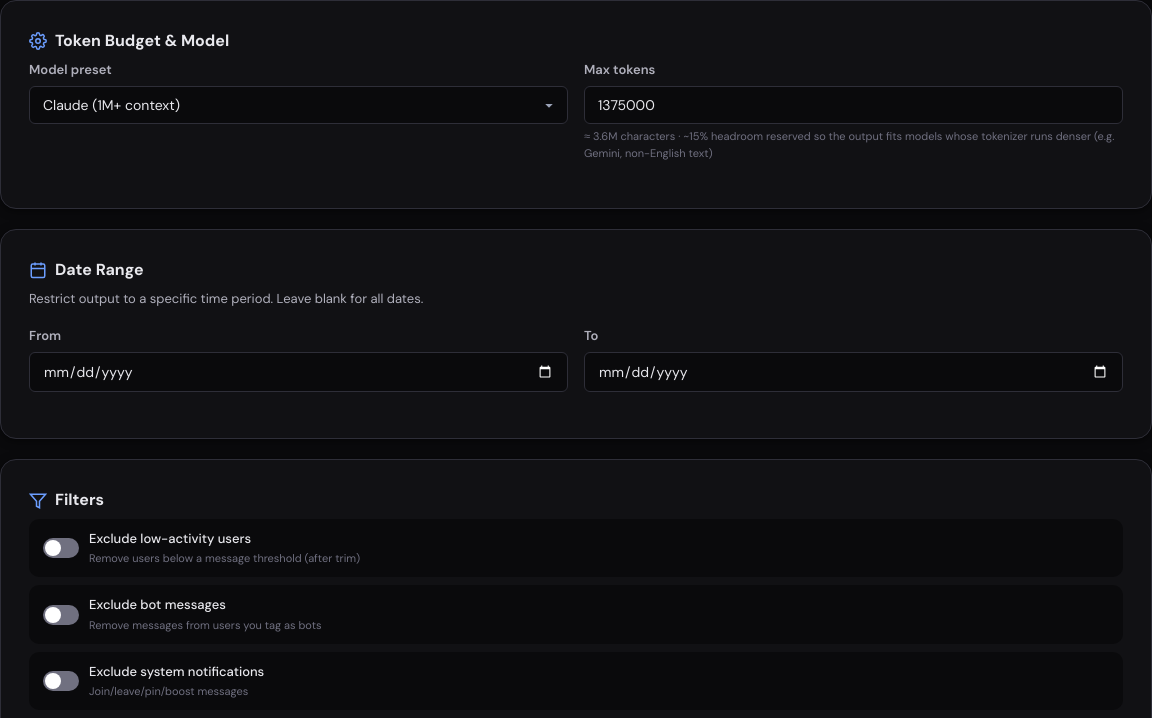
Configure › derives the character-budget label from max tokens
Expected: the text "3.6M" is shown, [593,129,618,143]
Replace the text in the number field with id "maxTokens" with "200000" at (854, 105), box [584,86,1123,124]
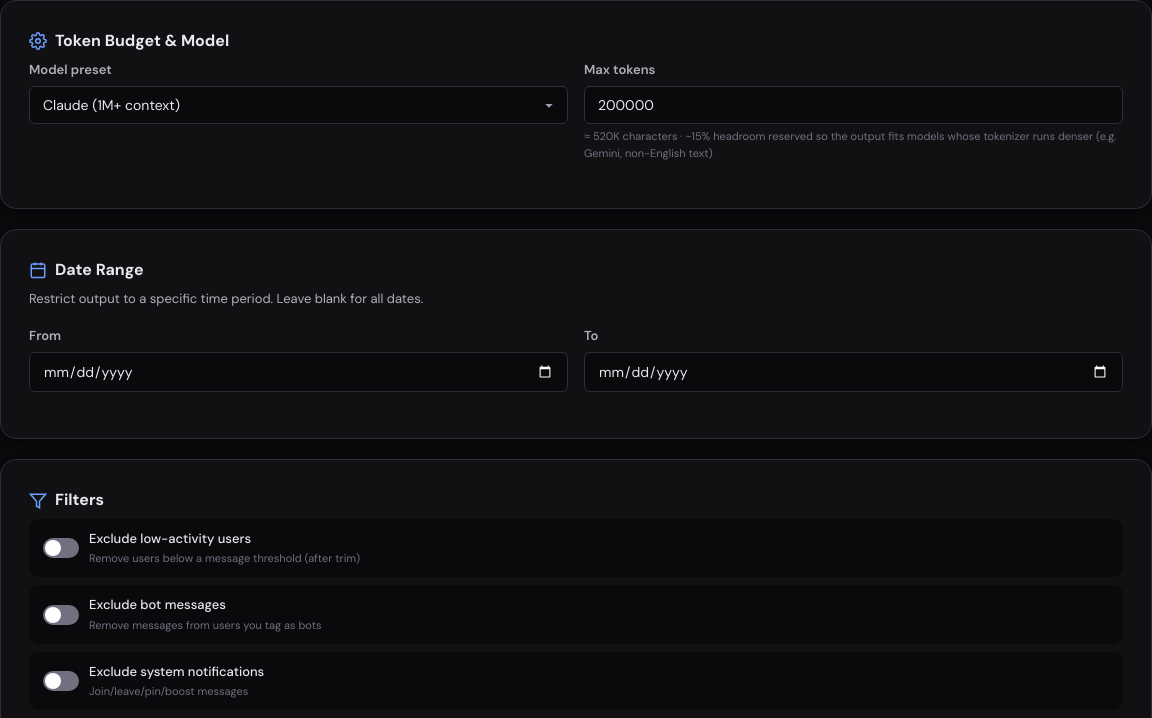
Now the text "520K" is shown, box [593,129,620,143]
